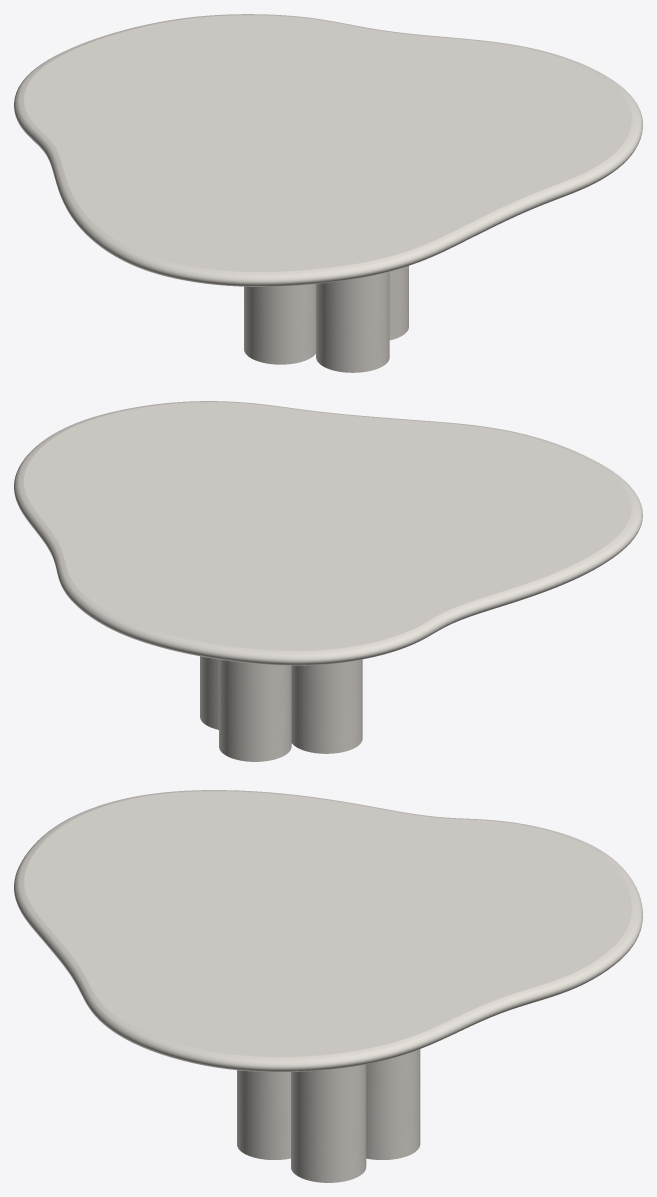
Rendered from pearlwhite_topone_round_secondtable.glb.
3 views of the same model, one above another, from view 1: azimuth 30°, elevation 25°; view 2: azimuth 150°, elevation 25°; view 3: azimuth 270°, elevation 25° (orthographic). The views are drawn at different scales.
Visible parts, largest first — view 1: round_topone, secondtable; view 2: round_topone, secondtable; view 3: round_topone, secondtable.
Part boxes in pixels (x1,y1,x2,y2): round_topone: (14, 14, 642, 286); secondtable: (244, 266, 408, 372); round_topone: (14, 401, 642, 665); secondtable: (200, 656, 362, 761); round_topone: (14, 790, 642, 1072); secondtable: (237, 1049, 420, 1182).
Bounding box in the file's own units: 6.83 × 2.5 × 6.6.
Materials: 1 (1 with a texture image).
